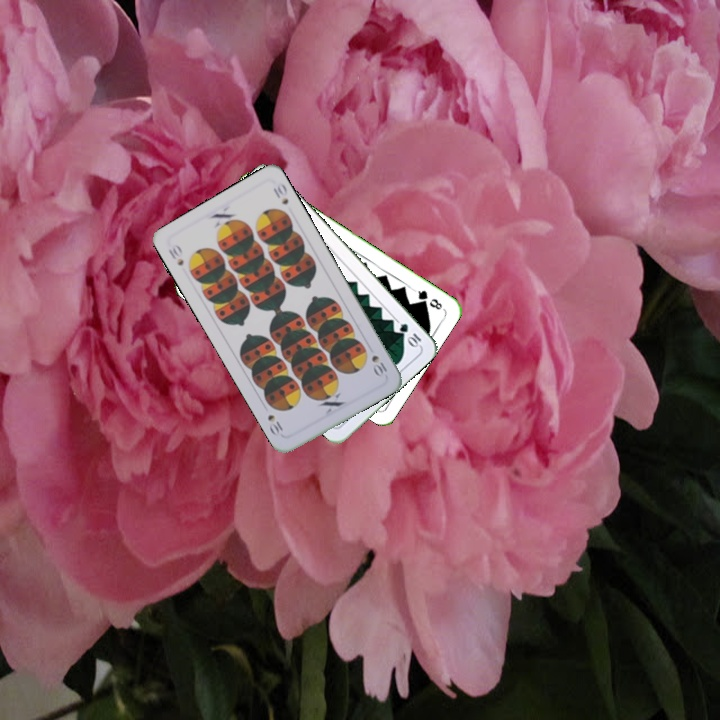G10: (395, 319, 424, 350)
G8: (410, 285, 445, 313)
S10: (367, 351, 390, 379), (164, 240, 186, 269)
